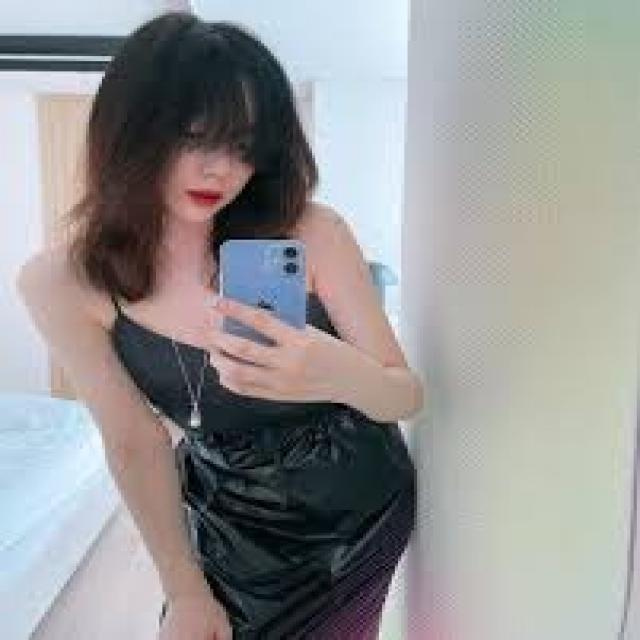Phone: (216, 236, 308, 342)
